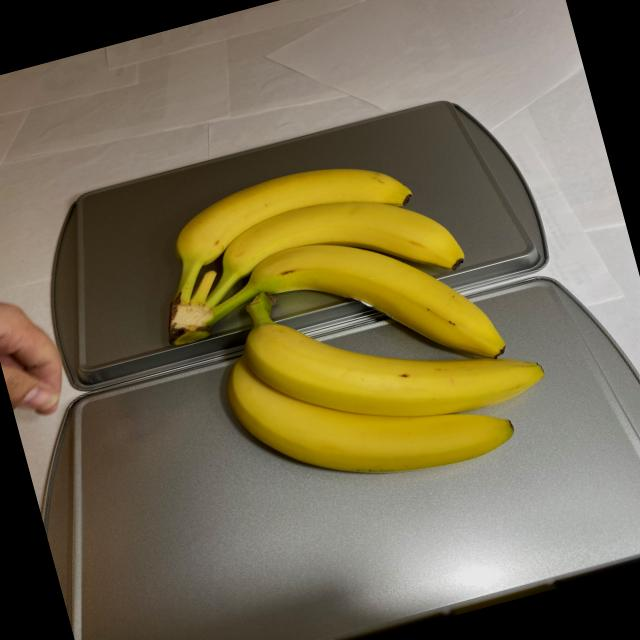banana: (134, 121, 566, 525)
